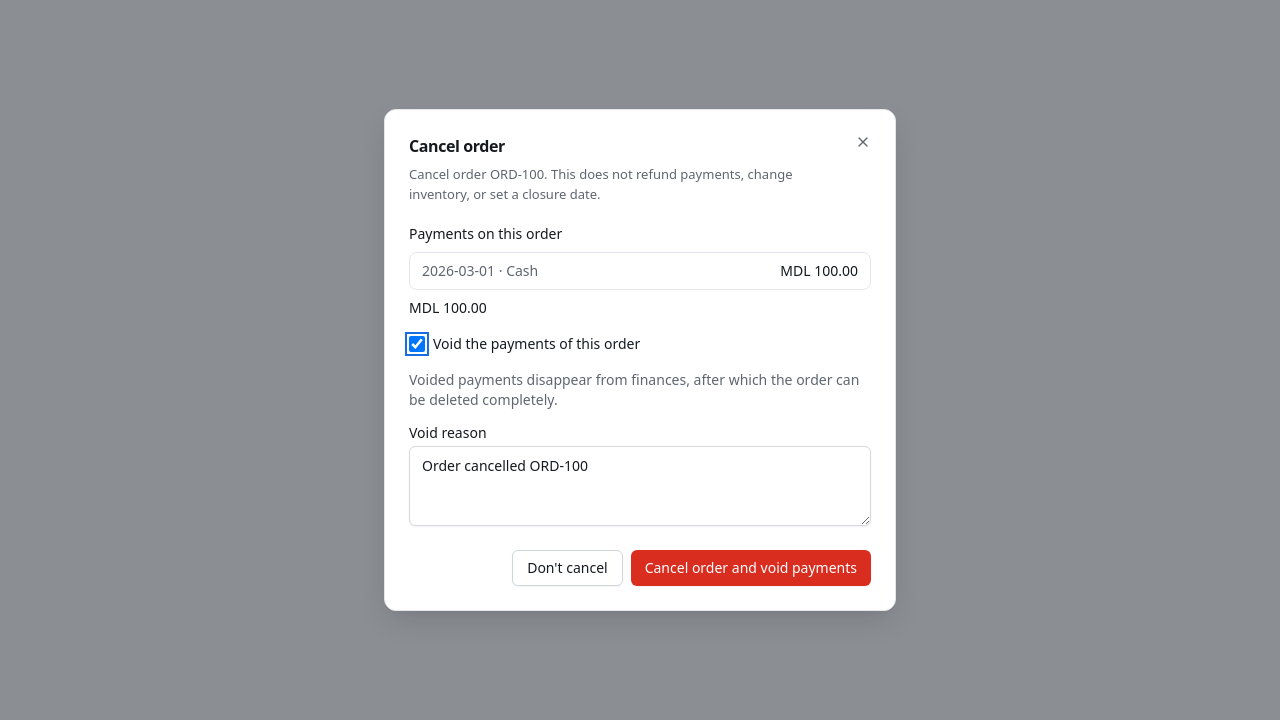
Test: CancelOrderDialog › sends voidPayments=false when the checkbox is unchecked
Later steps or results of the test are not shown.
Click the checkbox. click: (417, 344)
box: [409,336,425,352]
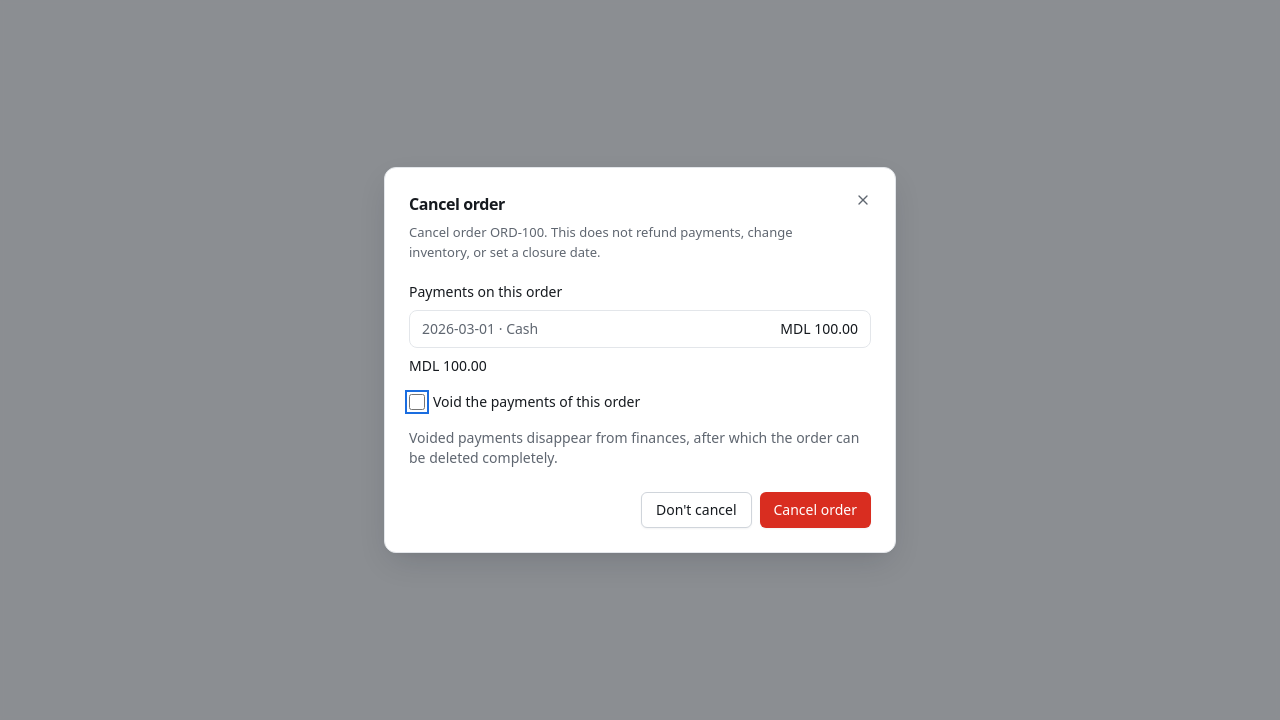
Result: the checkbox is not checked at [409,394,425,410]
